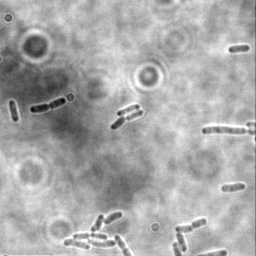Dividing: (109, 109, 145, 131), (28, 97, 67, 114), (174, 217, 208, 235)
Microcolony: (63, 209, 133, 255)
Rod: (200, 125, 249, 137), (116, 102, 141, 118), (7, 98, 20, 124), (220, 182, 247, 194), (175, 230, 189, 252), (228, 43, 251, 55)
